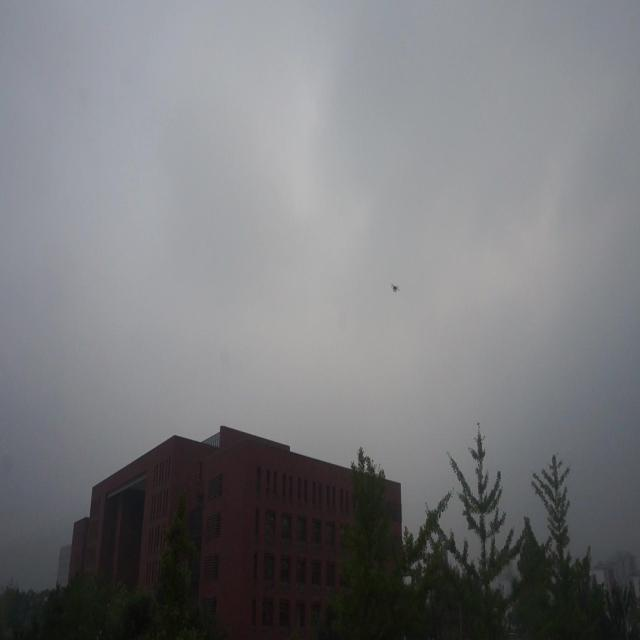drone: (390, 279, 400, 298)
